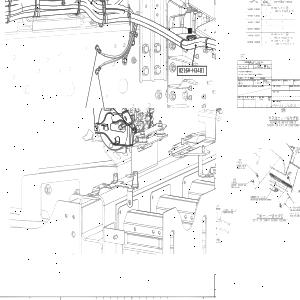PartNumber: (178, 68, 205, 74), (247, 8, 260, 11), (247, 14, 260, 17), (247, 34, 260, 37), (248, 21, 260, 24), (247, 28, 260, 30), (247, 41, 260, 43)
